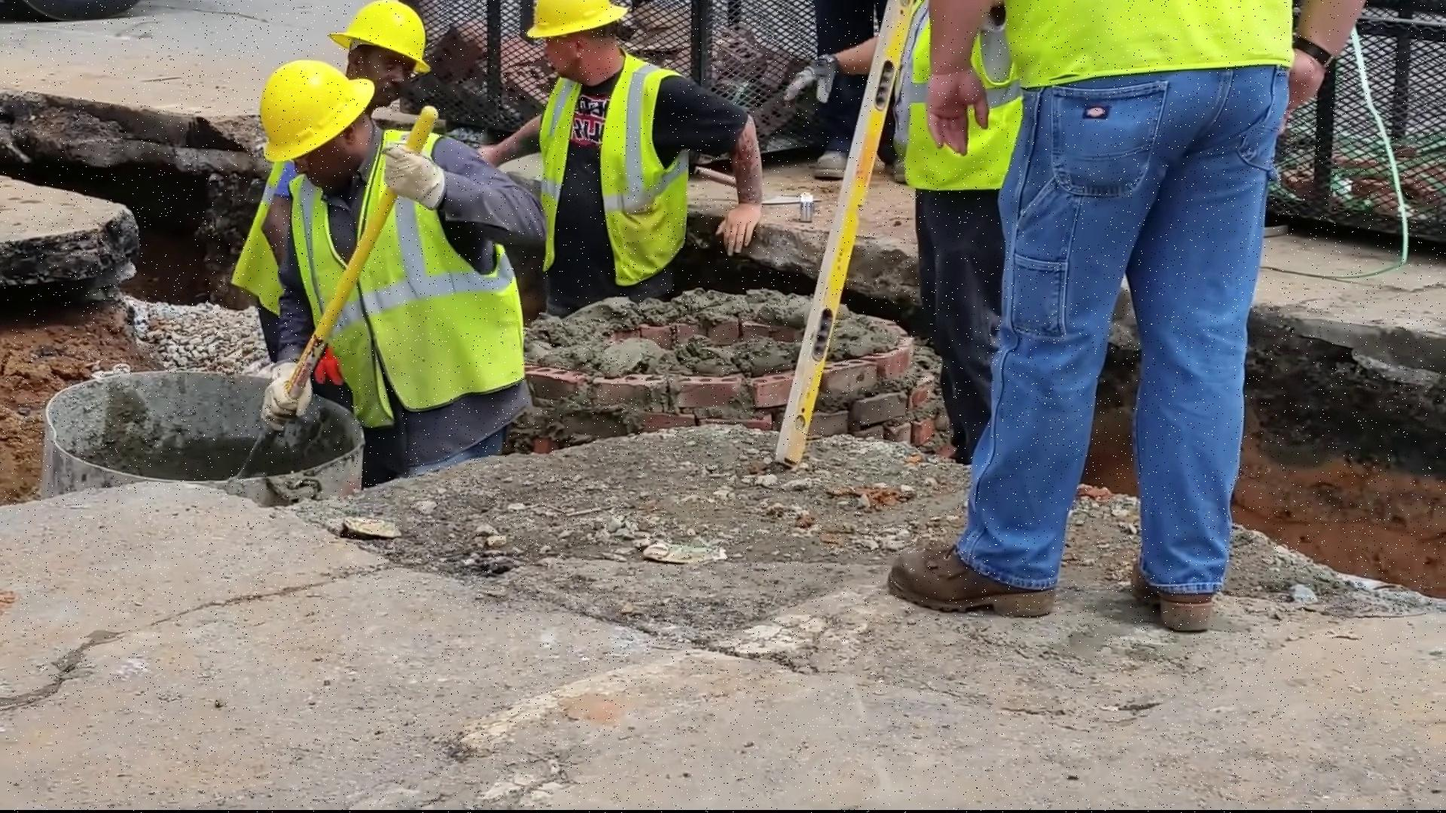Hard_hat: (237, 60, 362, 147), (338, 0, 440, 63), (509, 0, 643, 40)
Vest: (262, 138, 530, 439), (533, 63, 699, 299), (989, 0, 1297, 84), (892, 10, 1020, 187)
